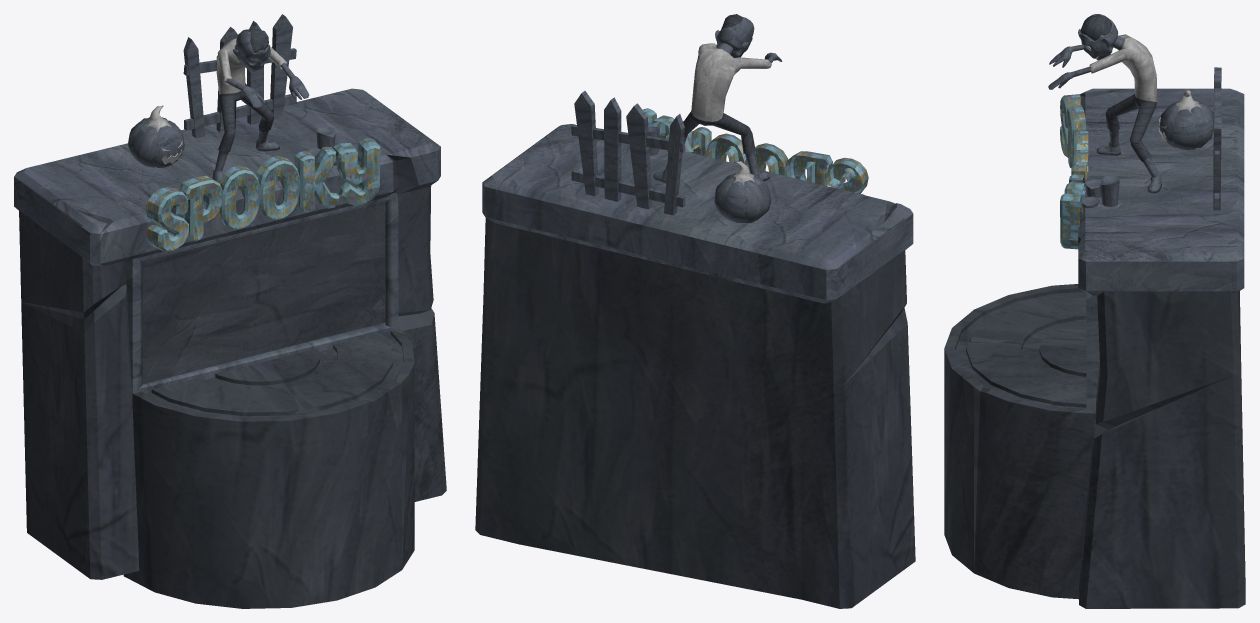
Rendered from StandSpooky01.glb.
3 renders of one model, left to right at view 1: azimuth 30°, elevation 25°; view 2: azimuth 150°, elevation 25°; view 3: azimuth 270°, elevation 25°, orthographic.
Parts seen in each view (by area): view 1: StandSpooky01; view 2: StandSpooky01; view 3: StandSpooky01.
Boxes of the visible parts, x1,y1,x2,y2 form: StandSpooky01: (14,14,446,608); StandSpooky01: (475,14,915,608); StandSpooky01: (944,14,1245,608).
Size of what is drawn, in the model's own units: 11.13 by 15.34 by 8.14.
Materials: 1 (1 with a texture image).
